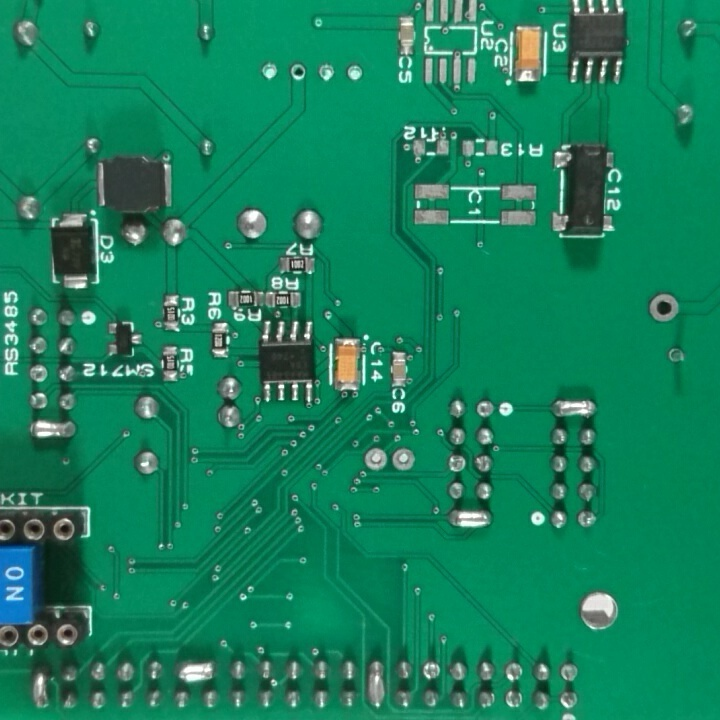F: (648, 287, 682, 325), (390, 448, 418, 473), (364, 445, 389, 473), (257, 60, 281, 84), (556, 689, 581, 712), (421, 660, 443, 686), (503, 689, 527, 712), (664, 341, 684, 368), (27, 363, 50, 386), (576, 509, 599, 530), (445, 452, 467, 473), (346, 63, 367, 85), (315, 62, 338, 82), (475, 399, 496, 419), (289, 63, 307, 83)
P: (548, 397, 602, 426), (27, 419, 82, 443), (444, 507, 496, 532), (365, 655, 386, 716), (175, 657, 216, 687), (30, 665, 53, 709)
